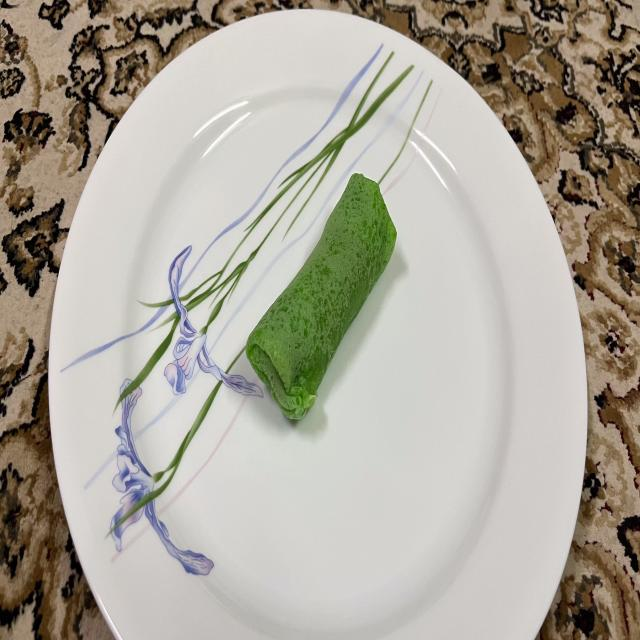Kuih-Ketayap: (246, 173, 396, 420)
